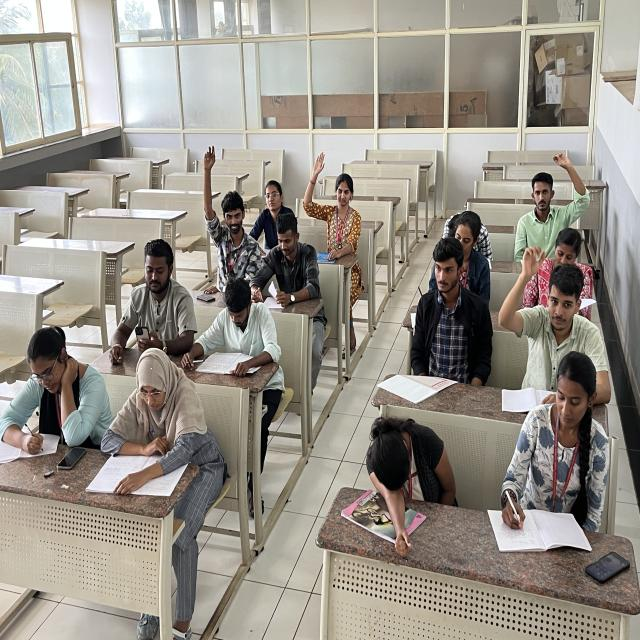Hand Rising: (503, 242, 598, 391), (197, 140, 267, 281), (518, 137, 584, 253), (302, 151, 368, 244)
Reading: (101, 348, 206, 492), (193, 274, 269, 375), (252, 214, 324, 308)
Sleeping: (350, 408, 461, 556)
Using Phone: (103, 228, 196, 368)
Writing: (484, 350, 604, 538), (0, 319, 98, 463)
